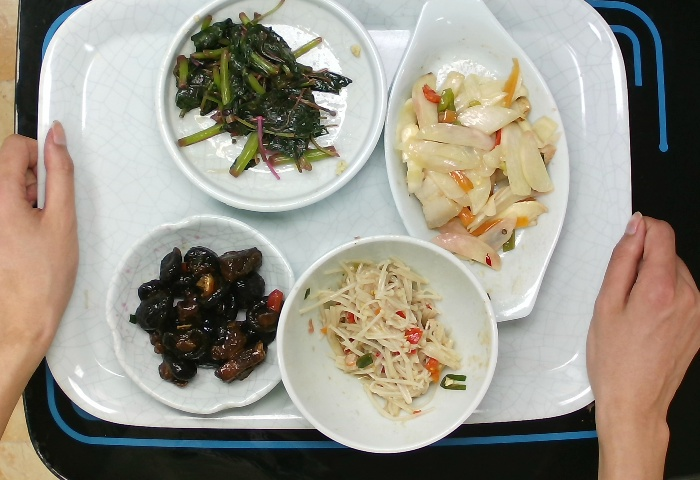JYsf-Ao_Yuan_Wan: (101, 211, 299, 417)
JYsf-Fan_Wan: (274, 232, 500, 456)
JYsf-Xiao_Yuan_Pan: (151, 1, 391, 214)
JYsf-Yu_Pan: (381, 1, 573, 326)
